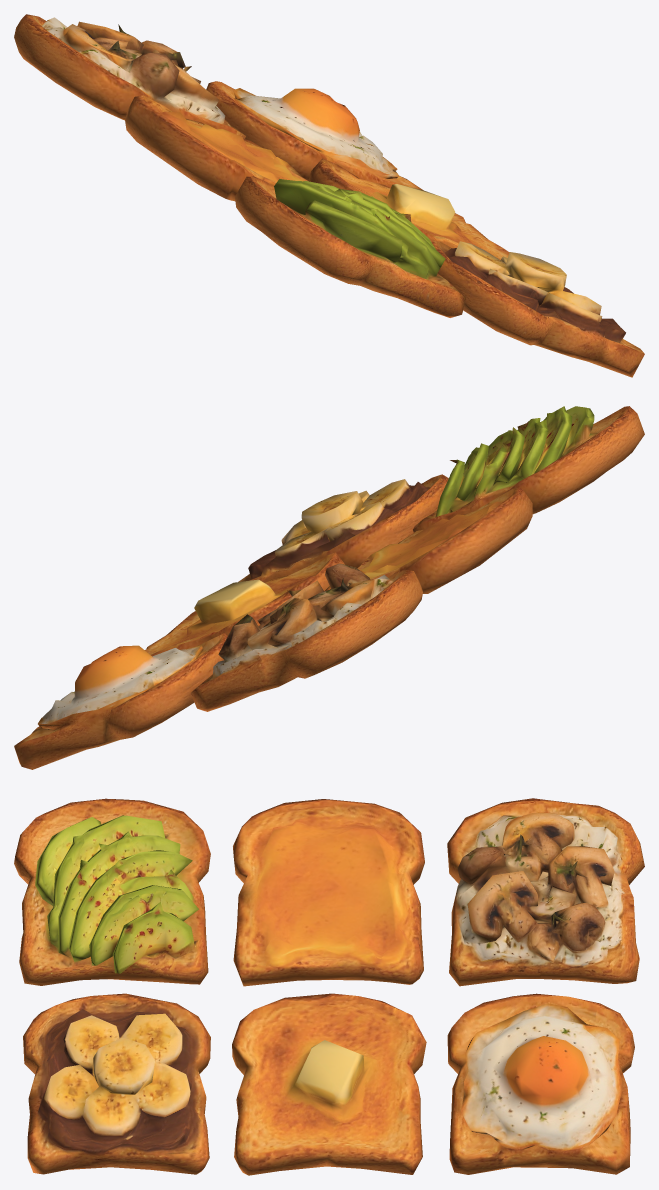
File: breakfast_toast_pack_3d_model.glb
3 renders of one model, top to bottom at view 1: azimuth 30°, elevation 25°; view 2: azimuth 150°, elevation 25°; view 3: azimuth 270°, elevation 25°, orthographic. The views are drawn at different scales.
Visible parts, largest first — view 1: tripo_node_0b397034-c0e6-4731-ade7-ef9d18a52396_0; view 2: tripo_node_0b397034-c0e6-4731-ade7-ef9d18a52396_0; view 3: tripo_node_0b397034-c0e6-4731-ade7-ef9d18a52396_0.
Part boxes in pixels (x1,y1,x2,y2): tripo_node_0b397034-c0e6-4731-ade7-ef9d18a52396_0: (14, 14, 644, 377); tripo_node_0b397034-c0e6-4731-ade7-ef9d18a52396_0: (14, 406, 644, 769); tripo_node_0b397034-c0e6-4731-ade7-ef9d18a52396_0: (14, 798, 644, 1175).
Bounding box in the file's own units: 0.623 × 0.3904 × 1.
1 material, 1 textured.
